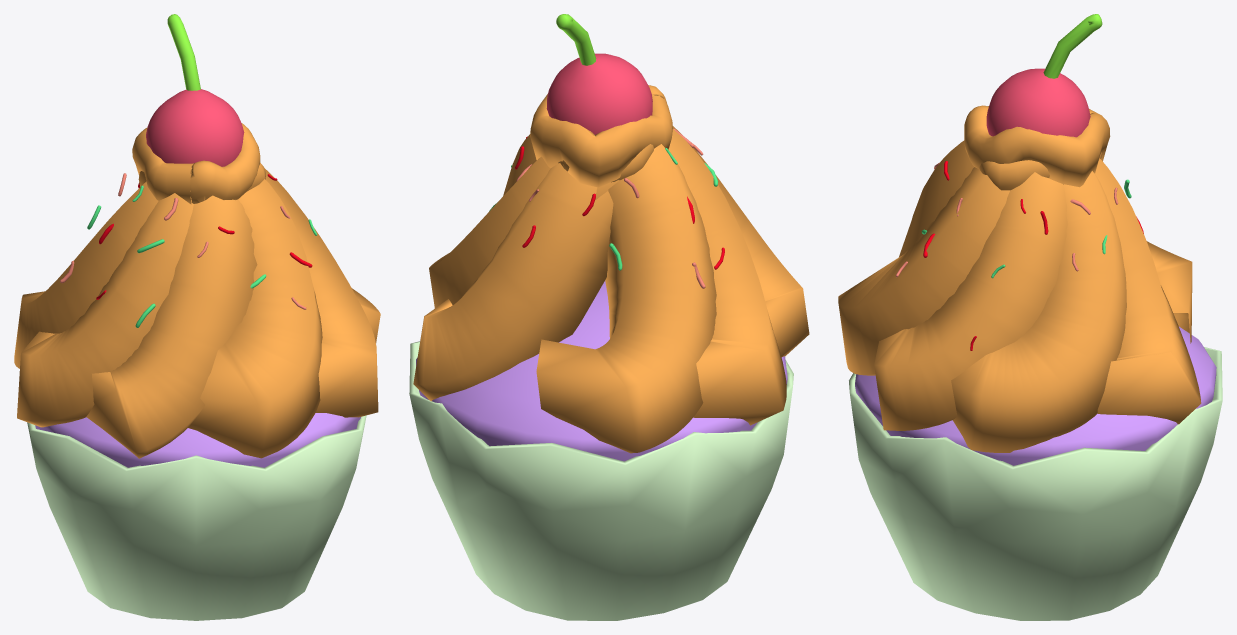
The model's file is Toy147.fbx.
3 views of the same model, side by side, from view 1: azimuth 30°, elevation 25°; view 2: azimuth 150°, elevation 25°; view 3: azimuth 270°, elevation 25° (orthographic). The views are drawn at different scales.
Parts seen in each view (by area): view 1: Toy147; view 2: Toy147; view 3: Toy147.
Boxes of the visible parts, bbox=[...] form: Toy147: bbox=[14, 14, 380, 620]; Toy147: bbox=[409, 14, 809, 620]; Toy147: bbox=[838, 14, 1222, 620].
Size of the model in its own units: 0.1491 by 0.2318 by 0.1426.
